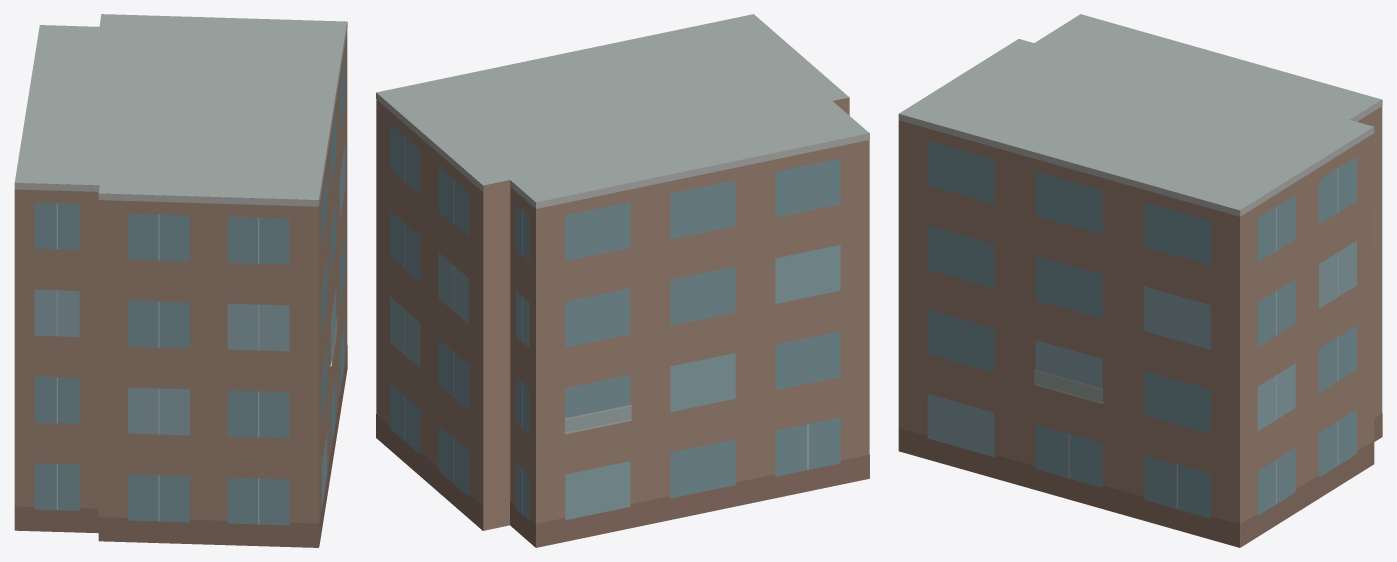
File: survey-upis-32780909.glb
3 renders of one model, left to right at view 1: azimuth 30°, elevation 25°; view 2: azimuth 150°, elevation 25°; view 3: azimuth 270°, elevation 25°, orthographic. The views are drawn at different scales.
Visible parts, largest first — view 1: survey-upis-32780909.tmp; view 2: survey-upis-32780909.tmp; view 3: survey-upis-32780909.tmp.
Part boxes in pixels (box(x1,y1,x2,y2)): survey-upis-32780909.tmp: box(14, 14, 347, 547); survey-upis-32780909.tmp: box(376, 14, 869, 547); survey-upis-32780909.tmp: box(898, 14, 1382, 547).
Bounding box in the file's own units: 15.99 × 12.8 × 16.64.
